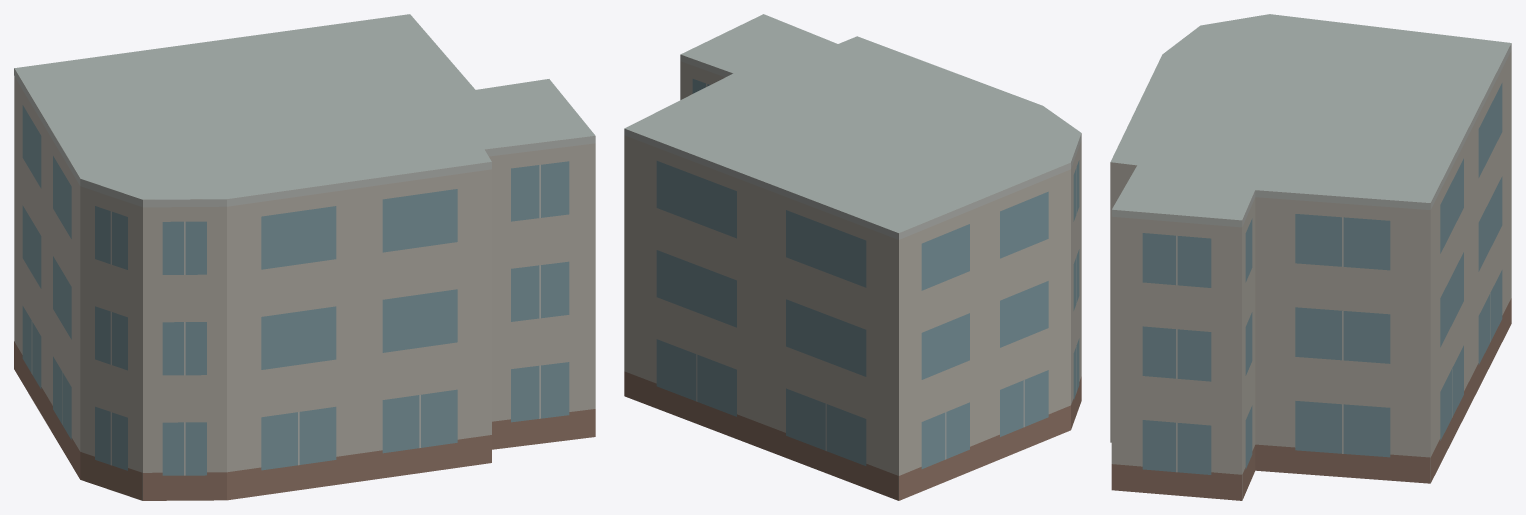
The model's file is survey-upis-33024873.glb.
The picture shows the model from 3 angles, left to right: view 1: azimuth 30°, elevation 25°; view 2: azimuth 150°, elevation 25°; view 3: azimuth 270°, elevation 25°; orthographic projection. The views are drawn at different scales.
Visible parts, largest first — view 1: survey-upis-33024873.tmp; view 2: survey-upis-33024873.tmp; view 3: survey-upis-33024873.tmp.
Boxes of the visible parts, x1,y1,x2,y2 form: survey-upis-33024873.tmp: (14,14,595,500); survey-upis-33024873.tmp: (624,14,1081,500); survey-upis-33024873.tmp: (1110,14,1511,500).
Size of the model in its own units: 15.32 by 9.7 by 12.59.
